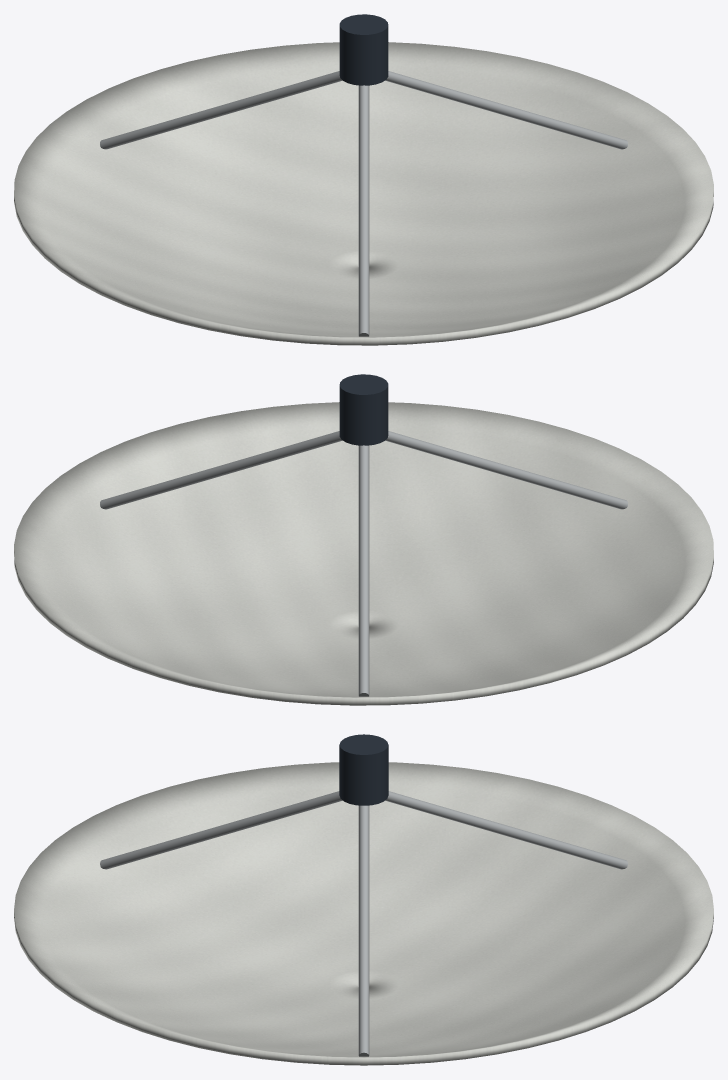
File: deep_space_dish.glb
3 renders of one model, top to bottom at view 1: azimuth 30°, elevation 25°; view 2: azimuth 150°, elevation 25°; view 3: azimuth 270°, elevation 25°, orthographic.
Visible parts, largest first — view 1: Parabolic_Reflector.001, Feed_Horn.001, Feed_Strut.005, Feed_Strut.003, Feed_Strut.004; view 2: Parabolic_Reflector.001, Feed_Horn.001, Feed_Strut.004, Feed_Strut.003, Feed_Strut.005; view 3: Parabolic_Reflector.001, Feed_Horn.001, Feed_Strut.003, Feed_Strut.004, Feed_Strut.005.
Boxes of the visible parts, bbox=[...] form: Parabolic_Reflector.001: bbox=[14, 42, 713, 345]; Feed_Horn.001: bbox=[339, 14, 388, 85]; Feed_Strut.005: bbox=[358, 85, 369, 336]; Feed_Strut.003: bbox=[385, 71, 627, 149]; Feed_Strut.004: bbox=[100, 71, 342, 149]; Parabolic_Reflector.001: bbox=[14, 402, 713, 705]; Feed_Horn.001: bbox=[339, 374, 388, 445]; Feed_Strut.004: bbox=[358, 445, 369, 696]; Feed_Strut.003: bbox=[100, 431, 342, 509]; Feed_Strut.005: bbox=[385, 431, 627, 509]; Parabolic_Reflector.001: bbox=[14, 762, 713, 1065]; Feed_Horn.001: bbox=[339, 734, 388, 805]; Feed_Strut.003: bbox=[358, 805, 369, 1056]; Feed_Strut.004: bbox=[385, 791, 627, 869]; Feed_Strut.005: bbox=[100, 791, 342, 869].
Bounding box in the file's own units: 2 × 0.92 × 2.
3 materials, 1 textured.
